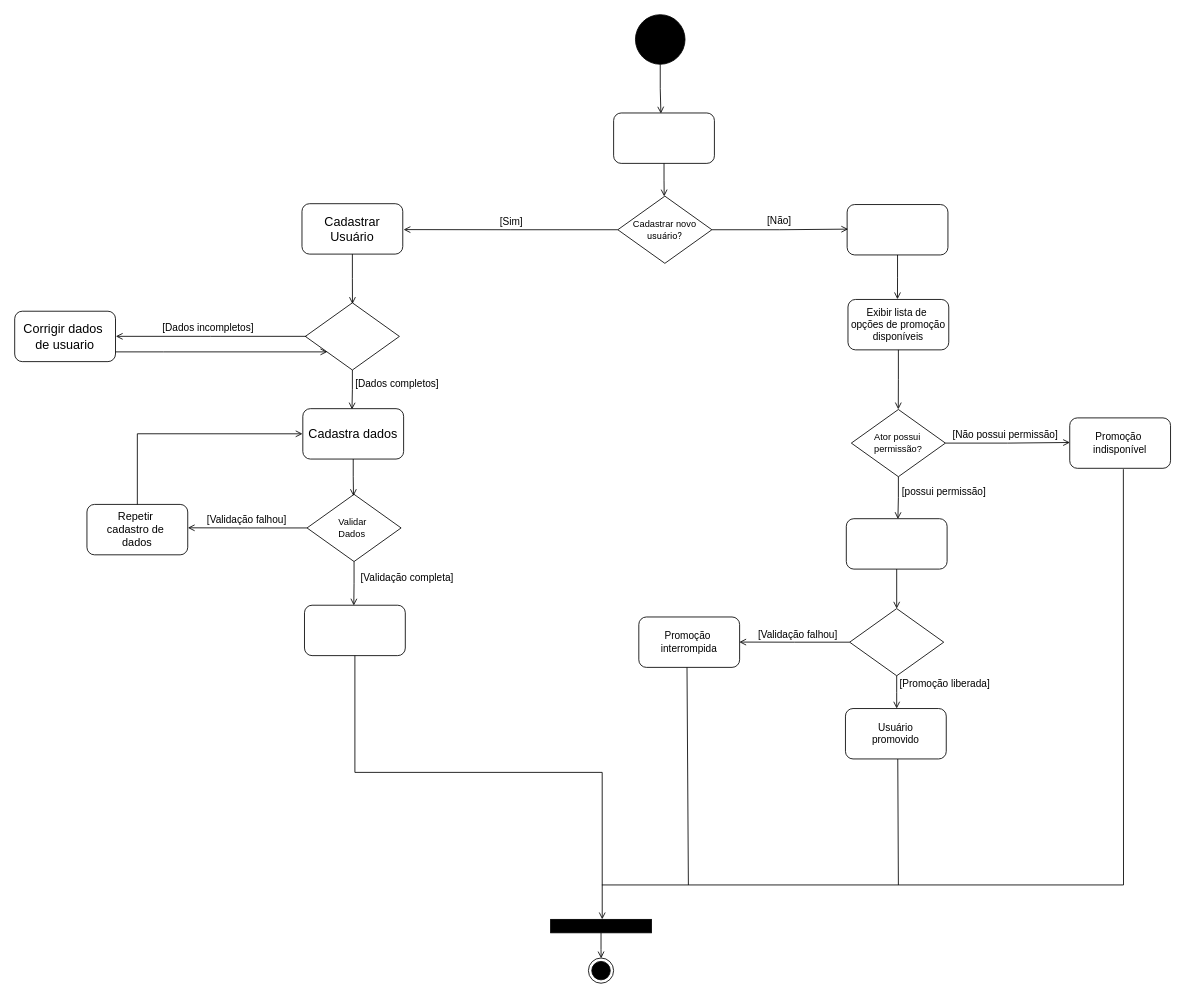
This 1185x998 diagram has some shape labels left out. The centre of each missing label's shape, as x and y in pixels:
Cadastro efetuado: point (354, 630)
Dados do usuário: point (351, 336)
Gerenciar Usuários: point (663, 137)
Promover Usuário: point (897, 229)
Solicitação de promoção: point (896, 543)
Validar promoção: point (896, 642)
